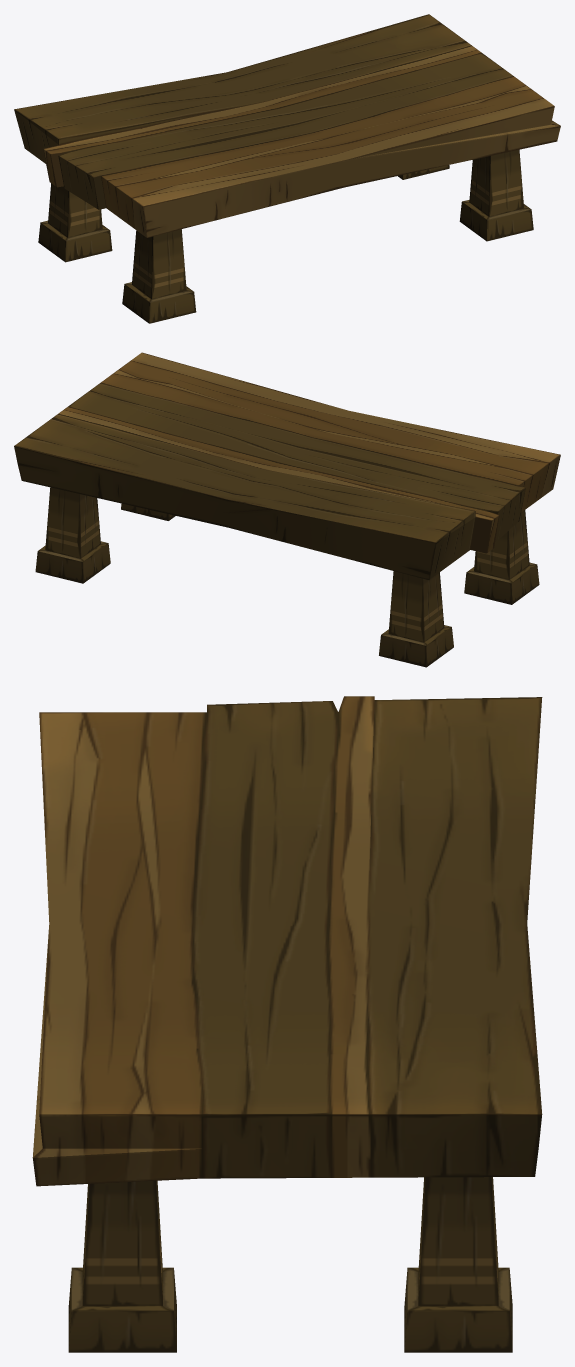
Rendered from Dg_01_table_001.FBX.
3 views of the same model, one above another, from view 1: azimuth 30°, elevation 25°; view 2: azimuth 150°, elevation 25°; view 3: azimuth 270°, elevation 25° (orthographic). The views are drawn at different scales.
Visible parts, largest first — view 1: Dg_01_table_001; view 2: Dg_01_table_001; view 3: Dg_01_table_001.
Boxes of the visible parts, bbox=[...] form: Dg_01_table_001: bbox=[14, 14, 560, 323]; Dg_01_table_001: bbox=[14, 352, 560, 667]; Dg_01_table_001: bbox=[32, 696, 542, 1352].
Bounding box in the file's own units: 3.7 × 1.08 × 1.89.
